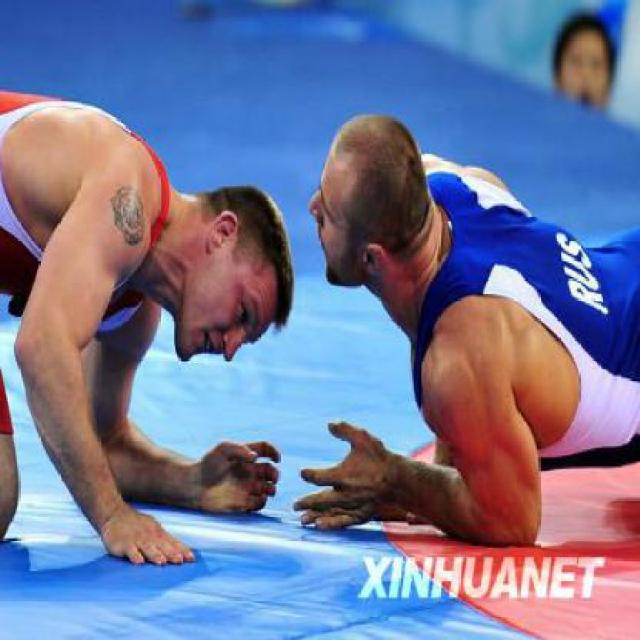fall: (0, 6, 308, 571)
